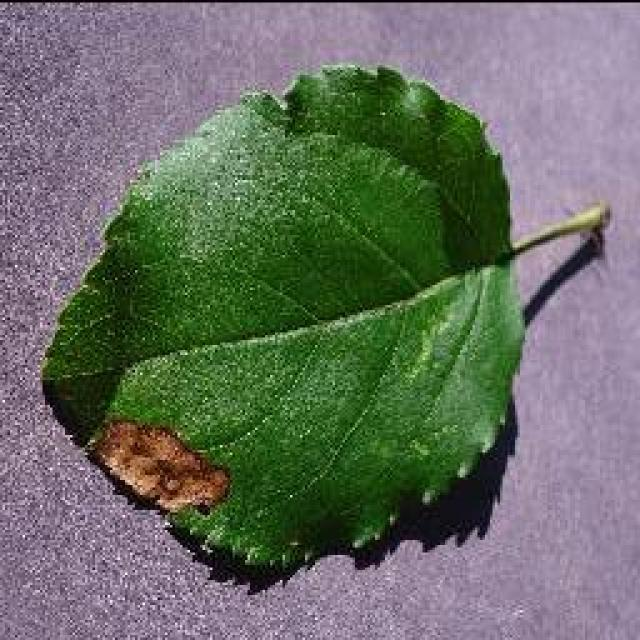apple black rot: (38, 58, 608, 580)
